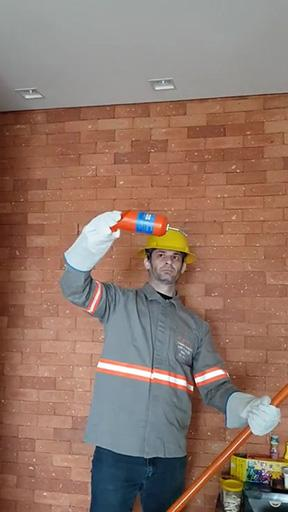Detector_Tensao_Contato: (111, 209, 189, 238)
